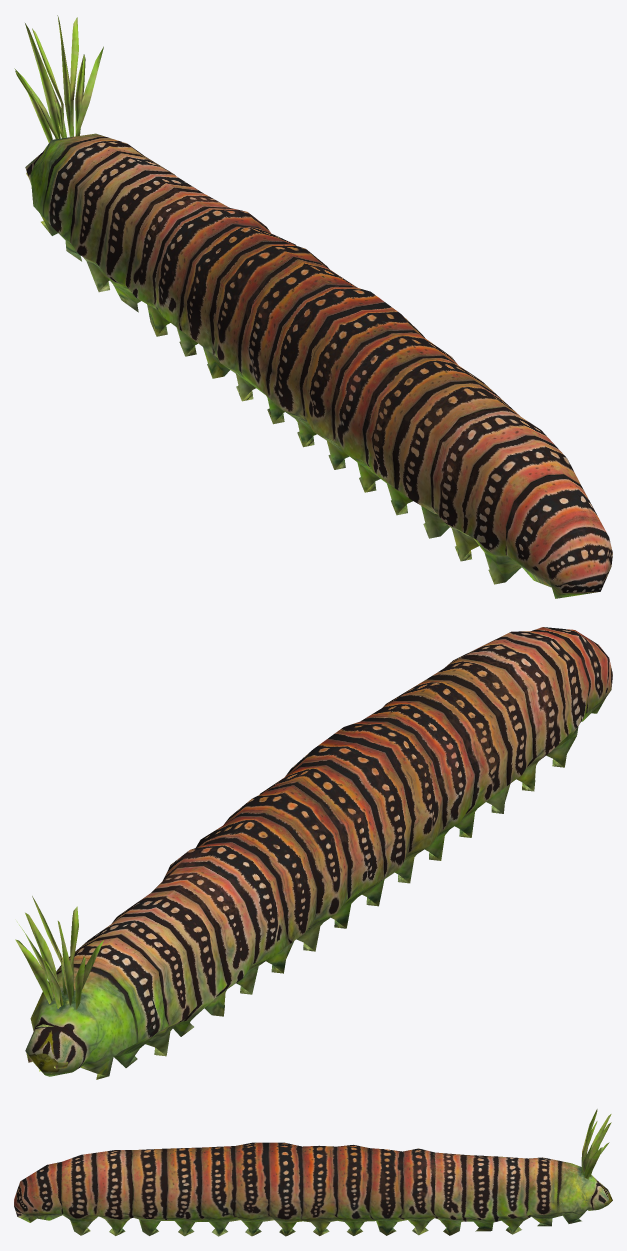
Rendered from caterpillar.fbx.
3 views of the same model, one above another, from view 1: azimuth 30°, elevation 25°; view 2: azimuth 150°, elevation 25°; view 3: azimuth 270°, elevation 25° (orthographic). The views are drawn at different scales.
Visible parts, largest first — view 1: caterpillar_021220; view 2: caterpillar_021220; view 3: caterpillar_021220.
Part boxes in pixels (box(x1,y1,x2,y2)): caterpillar_021220: box(14, 15, 612, 598); caterpillar_021220: box(15, 627, 612, 1079); caterpillar_021220: box(14, 1109, 612, 1236).
Size of the model in its own units: 0.7223 by 1.18 by 5.69.
